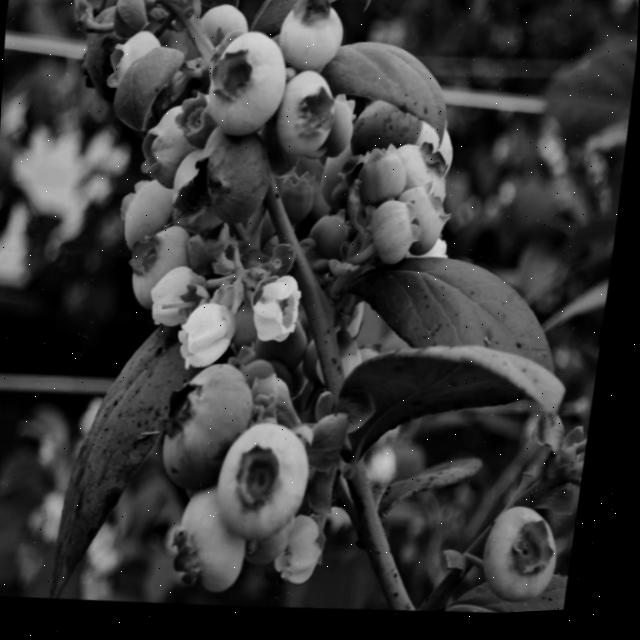RipeBlueBerry: (166, 366, 268, 502), (197, 132, 279, 235), (79, 11, 138, 105)
Semi-RipeBlueBerry: (353, 102, 435, 164)
UnripeBlueBerry: (223, 426, 329, 552), (205, 31, 295, 149), (180, 492, 265, 604), (490, 506, 576, 612), (279, 74, 342, 164)
